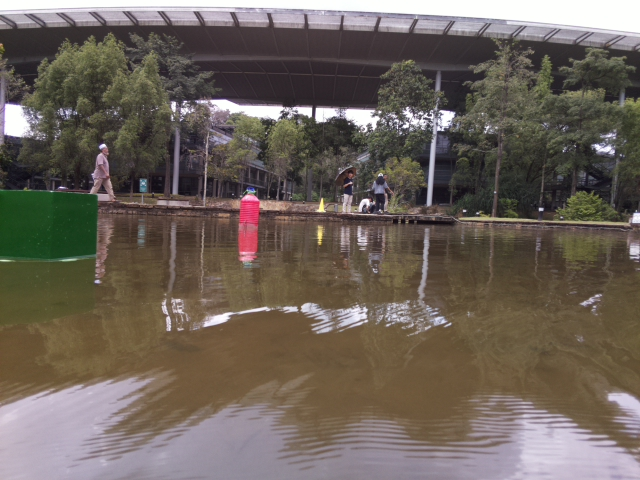checkpoint: (315, 198, 327, 214)
obstacle: (1, 192, 98, 262)
